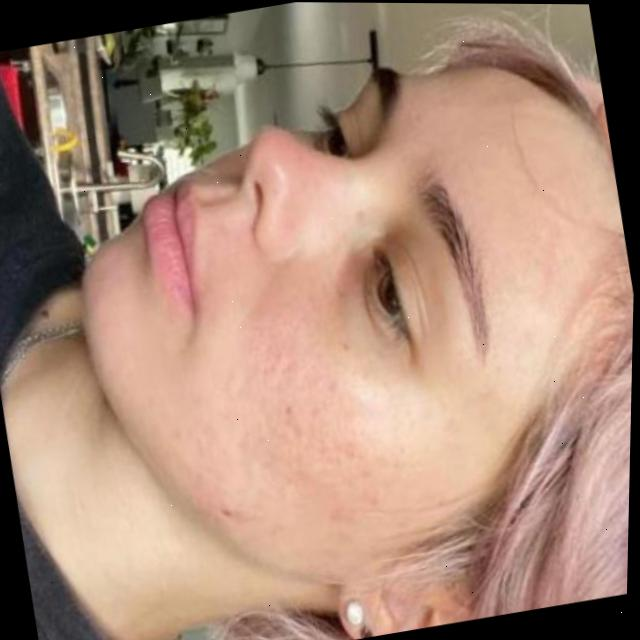Acne: (184, 314, 383, 587)
